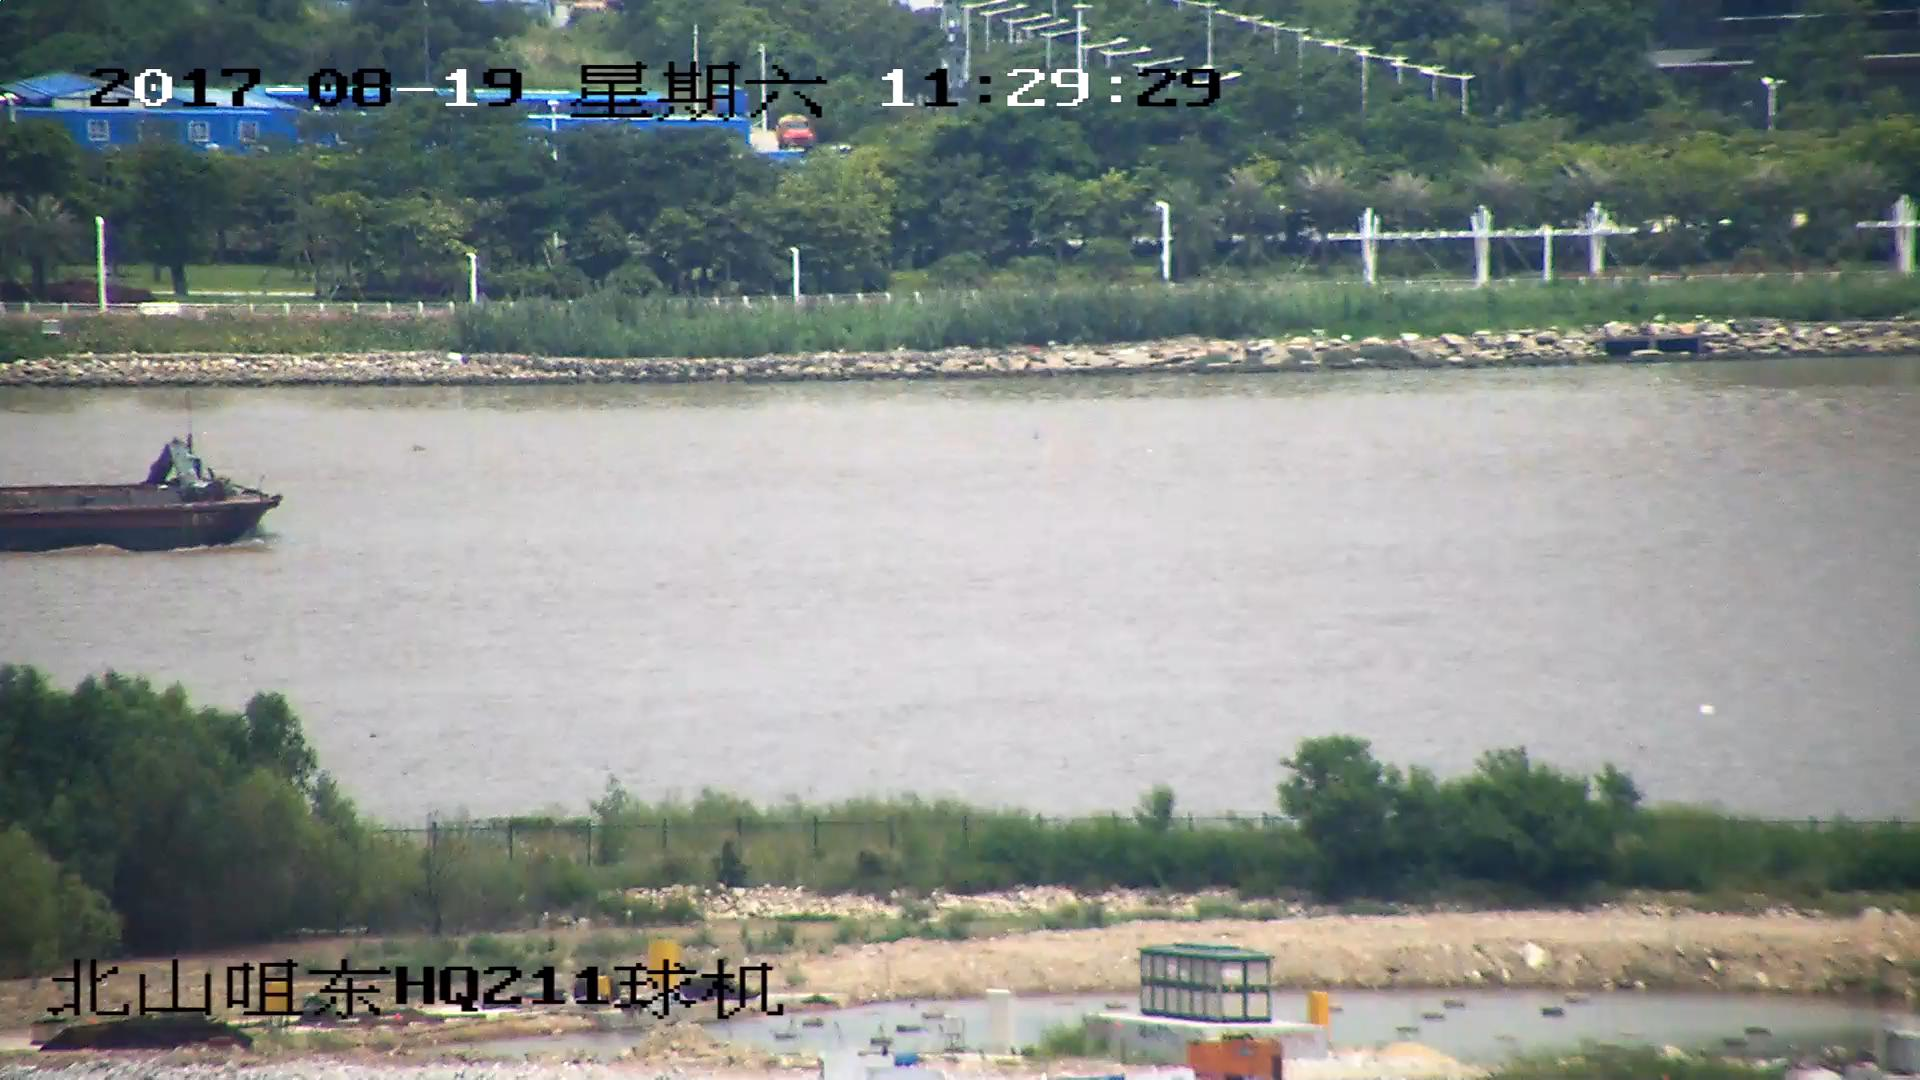general cargo ship: (1, 438, 264, 551)
